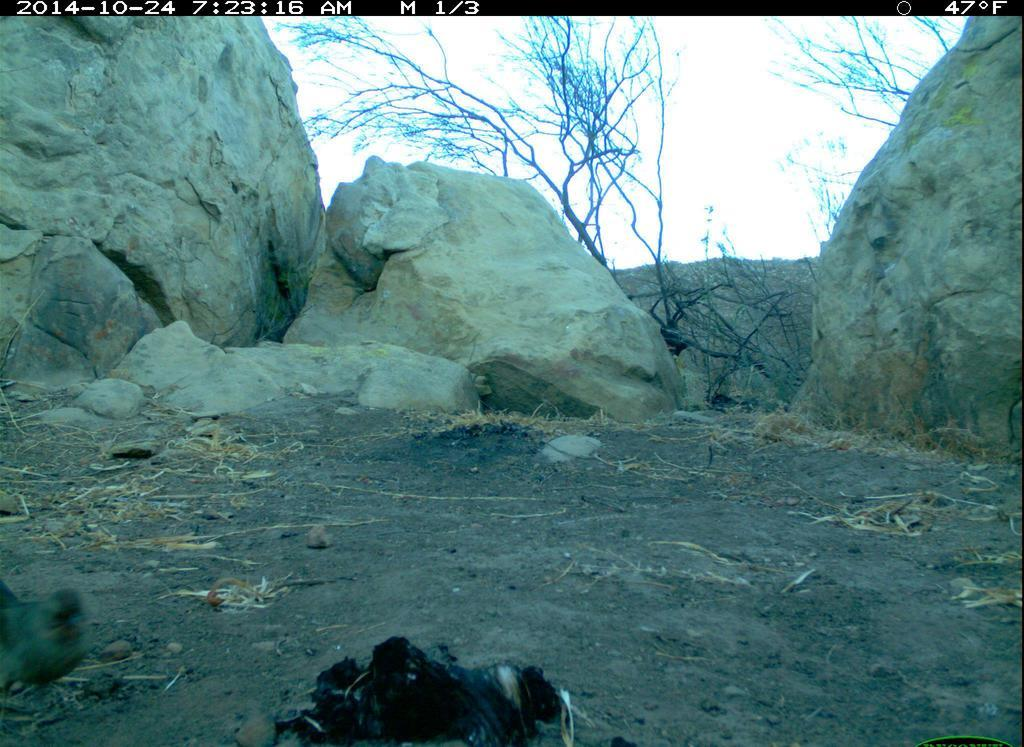bird: (2, 568, 112, 716)
